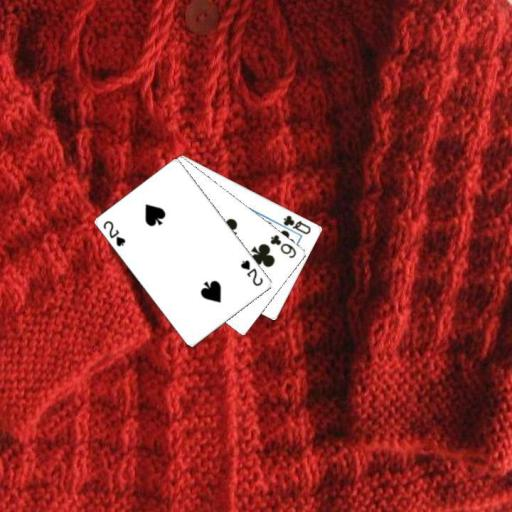2S: (238, 257, 265, 287), (101, 218, 128, 248)
6C: (267, 231, 298, 260)
QC: (280, 212, 313, 236)
